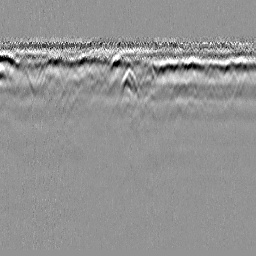cavity: (118, 67, 139, 96)
